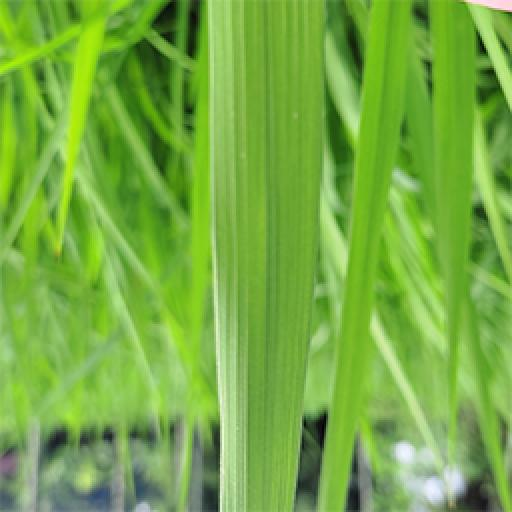Healthy Leaf: (208, 6, 322, 512)
